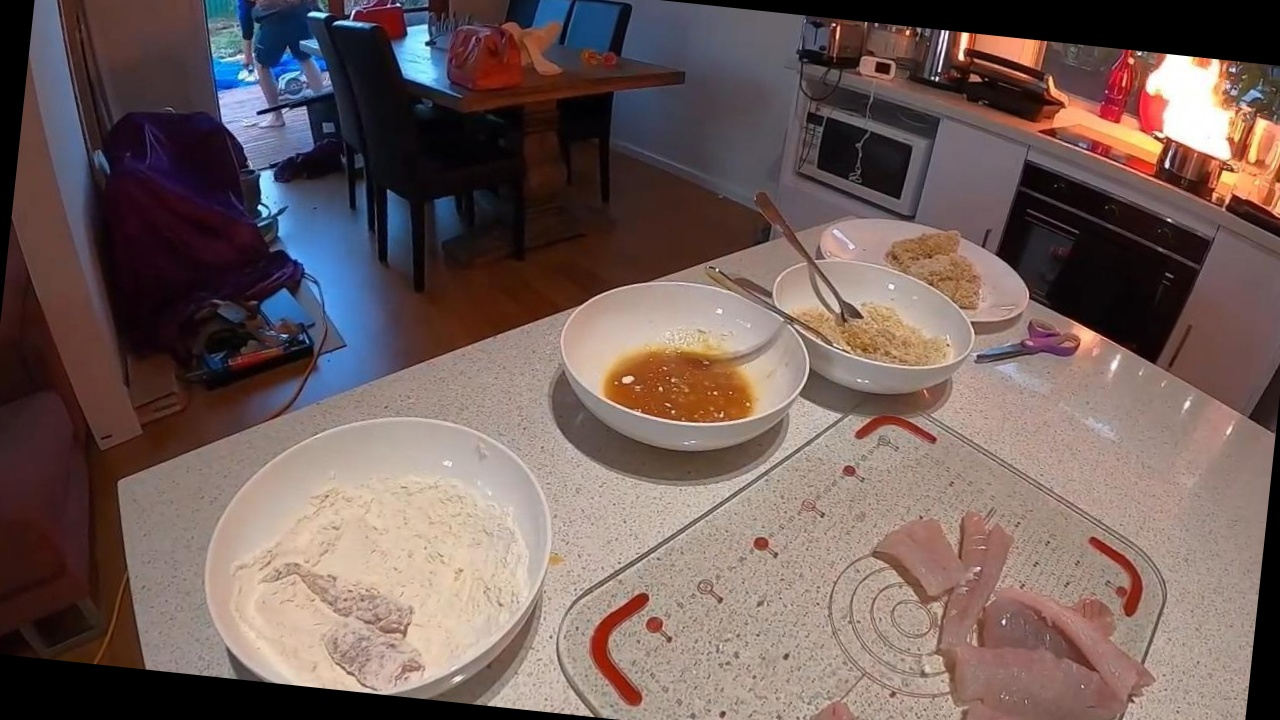fire: (1098, 48, 1271, 229)
